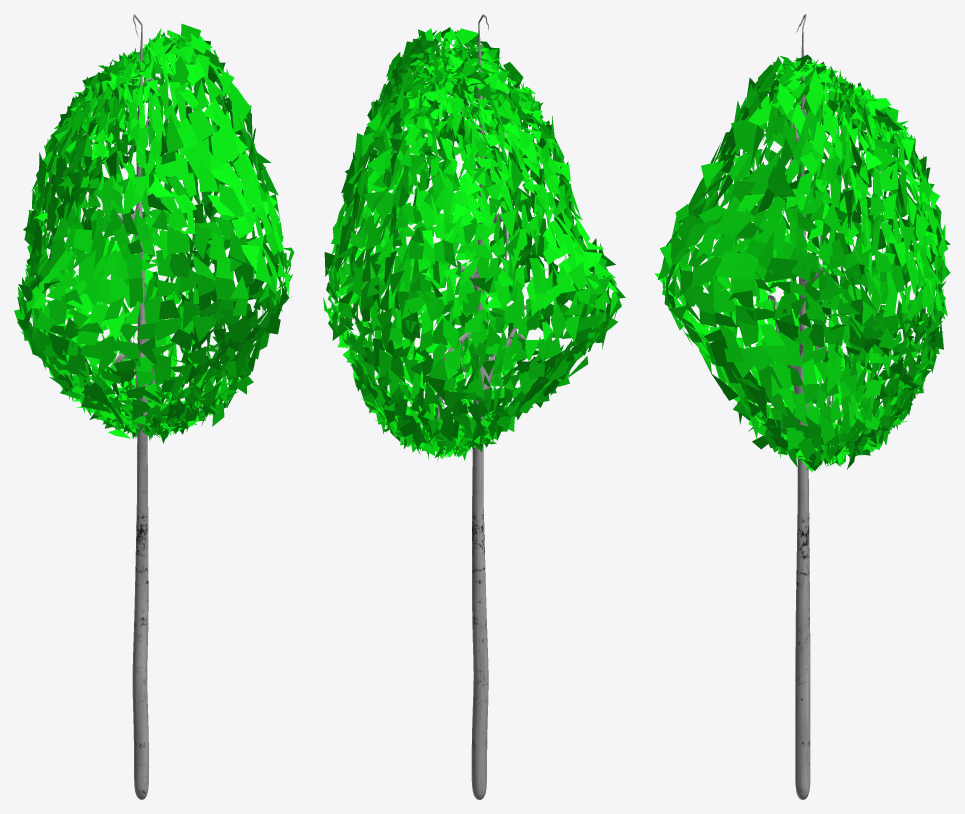
File: Leaves31.001.fbx
3 renders of one model, left to right at view 1: azimuth 30°, elevation 25°; view 2: azimuth 150°, elevation 25°; view 3: azimuth 270°, elevation 25°, orthographic.
Visible parts, largest first — view 1: Leaves31.001; view 2: Leaves31.001; view 3: Leaves31.001.
Boxes of the visible parts, <box> form: Leaves31.001: <box>14,14,294,799</box>; Leaves31.001: <box>323,14,625,799</box>; Leaves31.001: <box>654,14,950,799</box>.
Size of the model in its own units: 859 by 2612 by 896.
2 materials, 1 textured.
